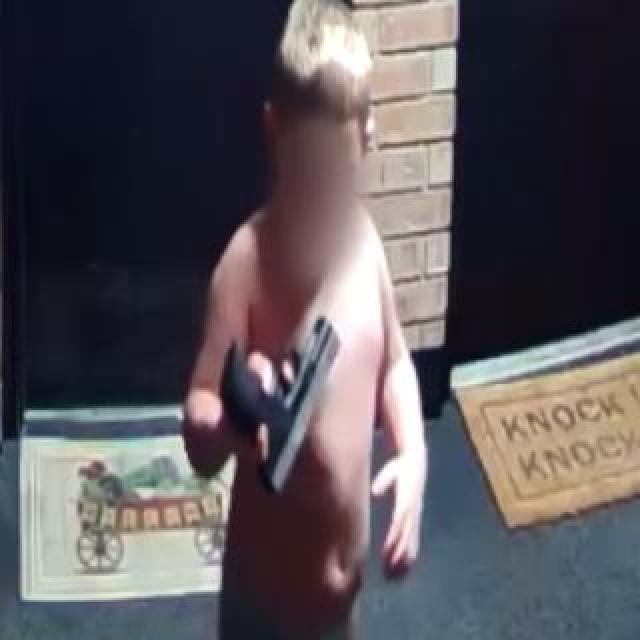Guns: (209, 291, 348, 518)
